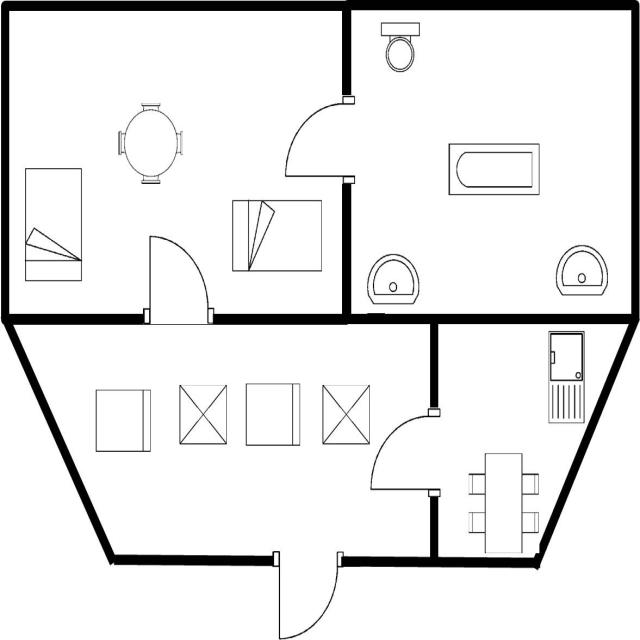bed: (20, 162, 85, 287), (226, 195, 326, 274)
coffee_table: (318, 378, 373, 447), (175, 379, 229, 448)
dining_table: (464, 446, 542, 558)
large_sink: (377, 17, 425, 74)
round_table: (114, 94, 187, 190)
sink: (544, 326, 588, 430)
small_sink: (552, 238, 612, 302), (362, 250, 422, 306)
small_sofa: (240, 378, 303, 452), (91, 384, 153, 458)
tub: (443, 138, 547, 200)
